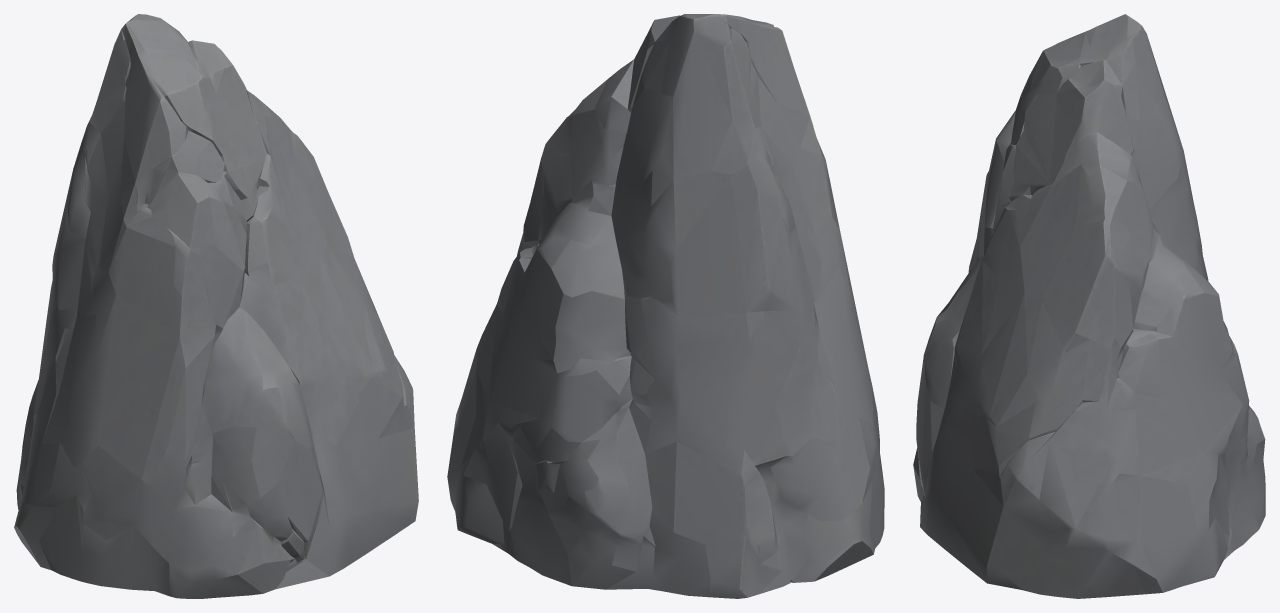
Rendered from nature-rock-tall.glb.
3 views of the same model, side by side, from view 1: azimuth 30°, elevation 25°; view 2: azimuth 150°, elevation 25°; view 3: azimuth 270°, elevation 25° (orthographic). The views are drawn at different scales.
Parts seen in each view (by area): view 1: nature-rock-tall-fit; view 2: nature-rock-tall-fit; view 3: nature-rock-tall-fit.
Boxes of the visible parts, left/top/right/bottom form: nature-rock-tall-fit: left=14, top=14, right=418, bottom=598; nature-rock-tall-fit: left=447, top=14, right=884, bottom=598; nature-rock-tall-fit: left=913, top=14, right=1265, bottom=598.
Size of the model in its own units: 1.31 by 1.65 by 1.12.
1 material, 1 textured.
